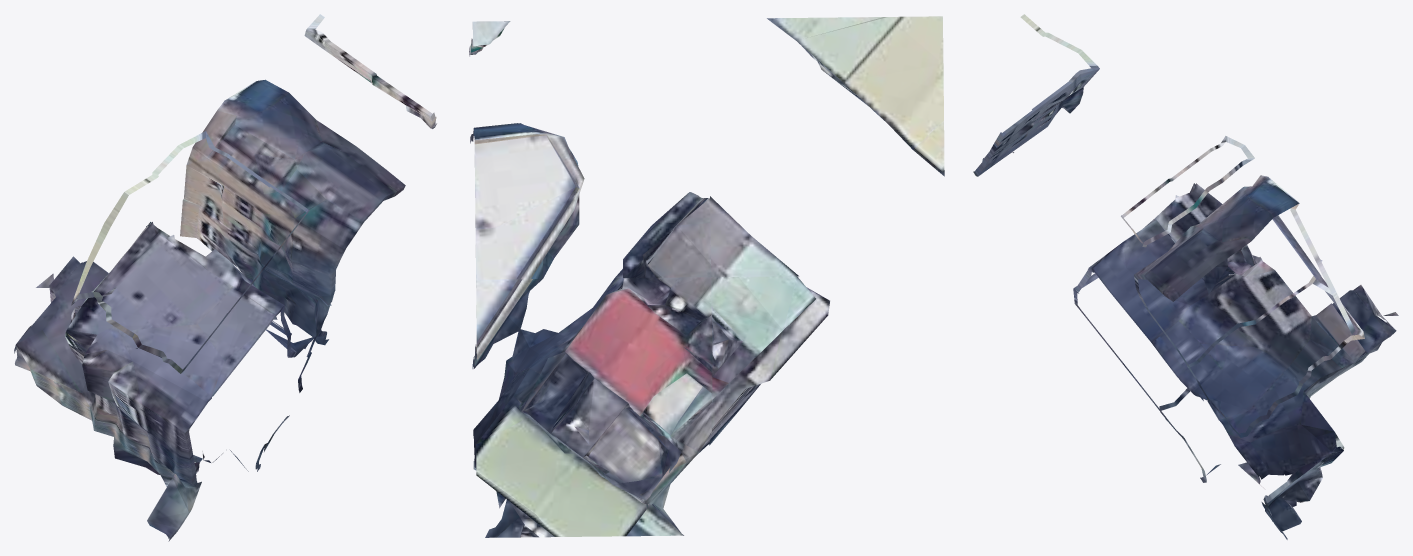
3 views of the same model, side by side, from view 1: azimuth 30°, elevation 25°; view 2: azimuth 150°, elevation 25°; view 3: azimuth 270°, elevation 25° (orthographic). The views are drawn at different scales.
Bounding box in the file's own units: 36.77 × 40.11 × 37.44.
Materials: 2 (2 with a texture image).
